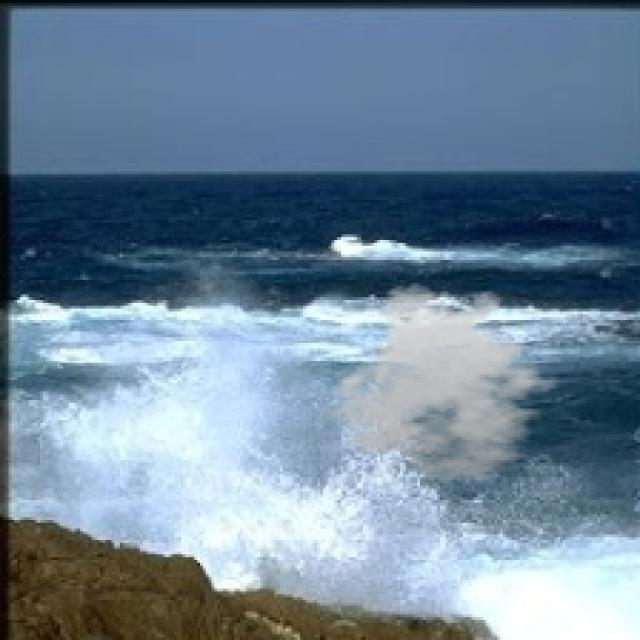Smoke: (323, 283, 571, 486)
